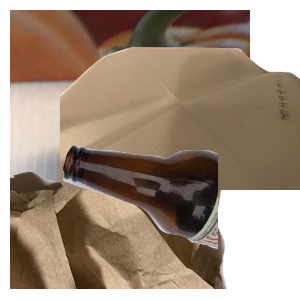cardboard: (10, 10, 250, 190)
glass: (60, 142, 300, 300)
plastic: (60, 44, 300, 224)
trash: (10, 120, 229, 300)
